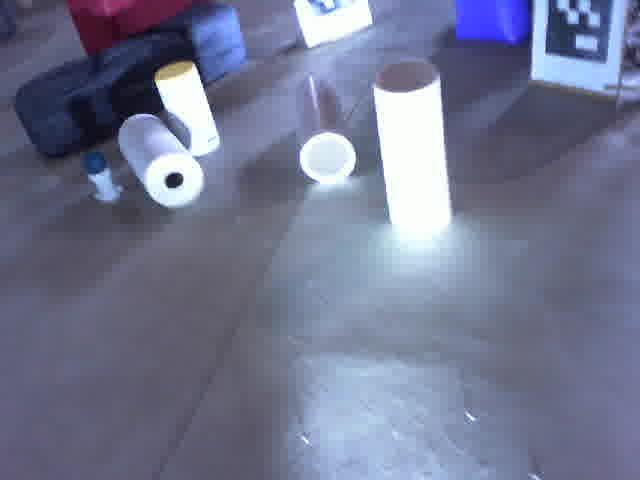coral: (374, 61, 453, 237), (293, 75, 359, 181), (158, 61, 225, 159)
